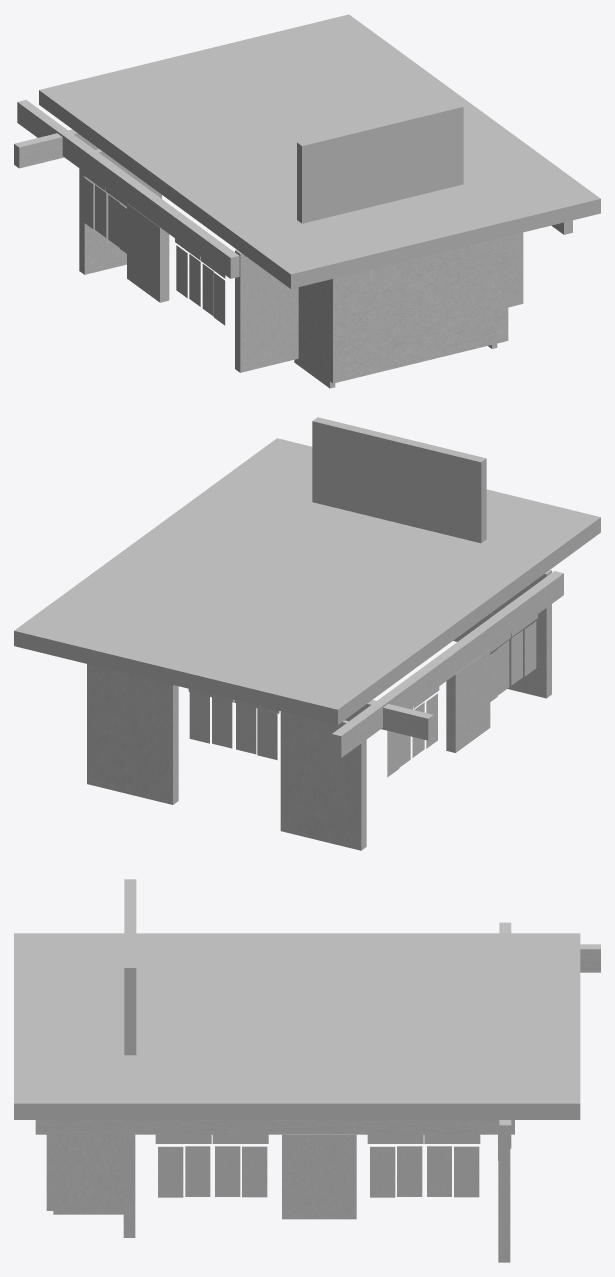
Rendered from doujou.obj.
3 views of the same model, one above another, from view 1: azimuth 30°, elevation 25°; view 2: azimuth 150°, elevation 25°; view 3: azimuth 270°, elevation 25° (orthographic). The views are drawn at different scales.
Parts seen in each view (by area): view 1: 立方体.048; view 2: 立方体.048; view 3: 立方体.048.
Boxes of the visible parts, x1,y1,x2,y2 form: 立方体.048: [14, 14, 600, 388]; 立方体.048: [14, 417, 600, 850]; 立方体.048: [14, 879, 600, 1262].
Size of the model in its own units: 676 by 416 by 828.
